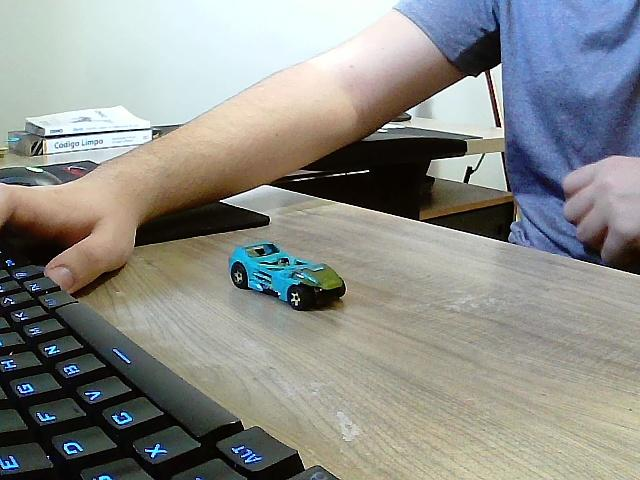Carro: (228, 244, 346, 311)
